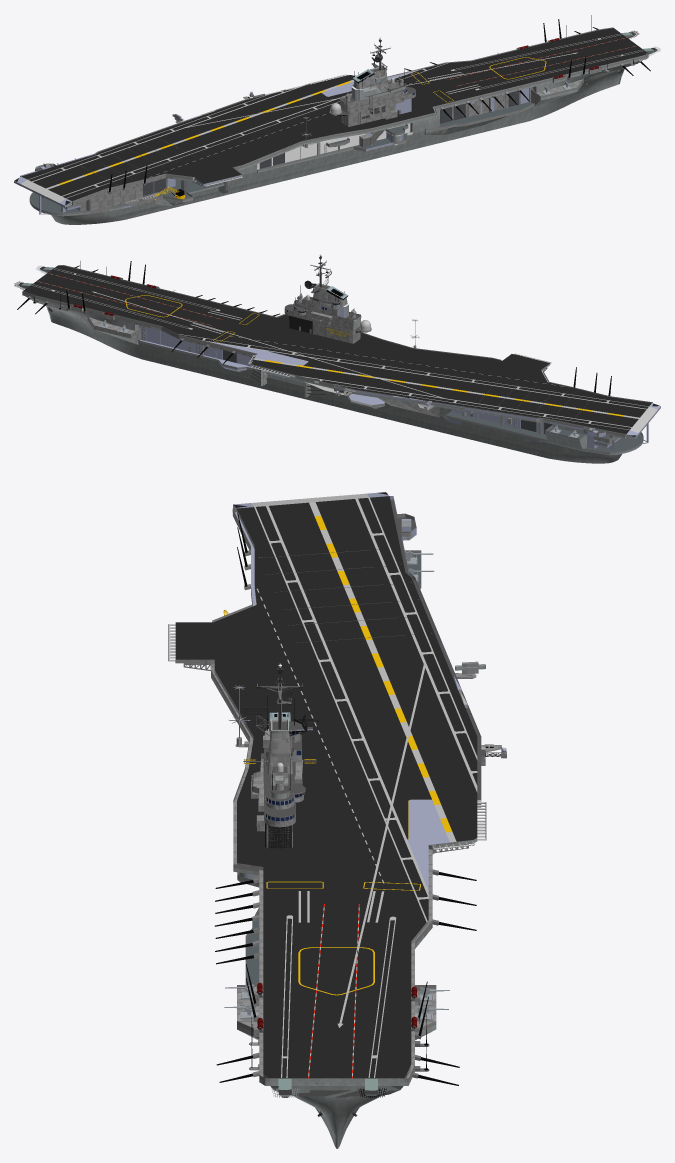
The model's file is essex_aircraft_carrier.glb.
3 views of the same model, one above another, from view 1: azimuth 30°, elevation 25°; view 2: azimuth 150°, elevation 25°; view 3: azimuth 270°, elevation 25° (orthographic). The views are drawn at different scales.
Visible parts, largest first — view 1: Object_3, Object_27, Object_12, Object_31, Object_13, Object_16, Object_10, Object_9, Object_36, Object_11, Object_6, Object_5 (+2 smaller); view 2: Object_3, Object_27, Object_12, Object_10, Object_31, Object_13, Object_16, Object_6, Object_11, Object_5, Object_28, Object_36; view 3: Object_3, Object_31, Object_12, Object_27, Object_10, Object_11, Object_28, Object_13, Object_6, Object_5, Object_2, Object_16.
Boxes of the visible parts, bbox=[...] form: Object_3: bbox=[21, 28, 647, 200]; Object_27: bbox=[51, 34, 655, 224]; Object_12: bbox=[61, 53, 648, 216]; Object_31: bbox=[28, 33, 643, 198]; Object_13: bbox=[20, 27, 648, 215]; Object_16: bbox=[30, 66, 599, 213]; Object_10: bbox=[14, 37, 528, 216]; Object_9: bbox=[40, 37, 548, 214]; Object_36: bbox=[143, 91, 518, 195]; Object_11: bbox=[108, 15, 650, 197]; Object_6: bbox=[59, 57, 546, 200]; Object_5: bbox=[104, 38, 608, 194]; Object_3: bbox=[23, 266, 651, 433]; Object_27: bbox=[18, 269, 635, 463]; Object_12: bbox=[23, 283, 617, 443]; Object_10: bbox=[26, 255, 660, 454]; Object_31: bbox=[32, 260, 648, 429]; Object_13: bbox=[22, 265, 652, 454]; Object_16: bbox=[110, 276, 643, 452]; Object_6: bbox=[125, 295, 623, 416]; Object_11: bbox=[14, 261, 611, 395]; Object_5: bbox=[28, 262, 595, 427]; Object_28: bbox=[285, 284, 604, 433]; Object_36: bbox=[223, 350, 552, 434]; Object_3: bbox=[175, 496, 477, 1078]; Object_31: bbox=[254, 497, 477, 1077]; Object_12: bbox=[175, 509, 506, 1085]; Object_27: bbox=[211, 507, 481, 1148]; Object_10: bbox=[175, 492, 506, 890]; Object_11: bbox=[214, 513, 500, 1097]; Object_28: bbox=[263, 499, 485, 817]; Object_13: bbox=[211, 508, 485, 1082]; Object_6: bbox=[223, 516, 452, 995]; Object_5: bbox=[243, 548, 438, 1097]; Object_2: bbox=[224, 551, 449, 1020]; Object_16: bbox=[237, 554, 421, 1032].
Size of the model in its own units: 4.16 by 0.76 by 0.9839.
41 materials, 14 textured.
